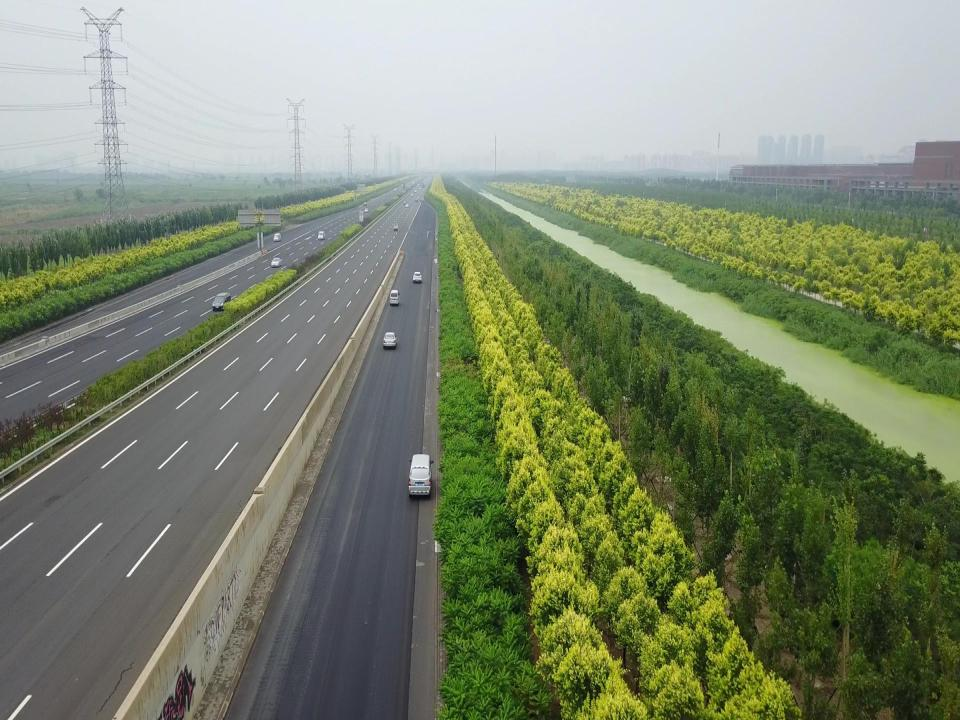car: (382, 332, 398, 351), (412, 270, 422, 285), (271, 258, 282, 267), (363, 201, 367, 206), (414, 198, 418, 202), (416, 196, 420, 200), (364, 208, 368, 212), (405, 204, 409, 207), (403, 200, 406, 204), (411, 192, 413, 196), (394, 188, 396, 191), (414, 190, 416, 192)
truck: (394, 222, 398, 230)
van: (408, 452, 432, 501), (212, 292, 232, 311), (390, 290, 400, 307), (317, 231, 325, 240), (273, 233, 281, 242)
